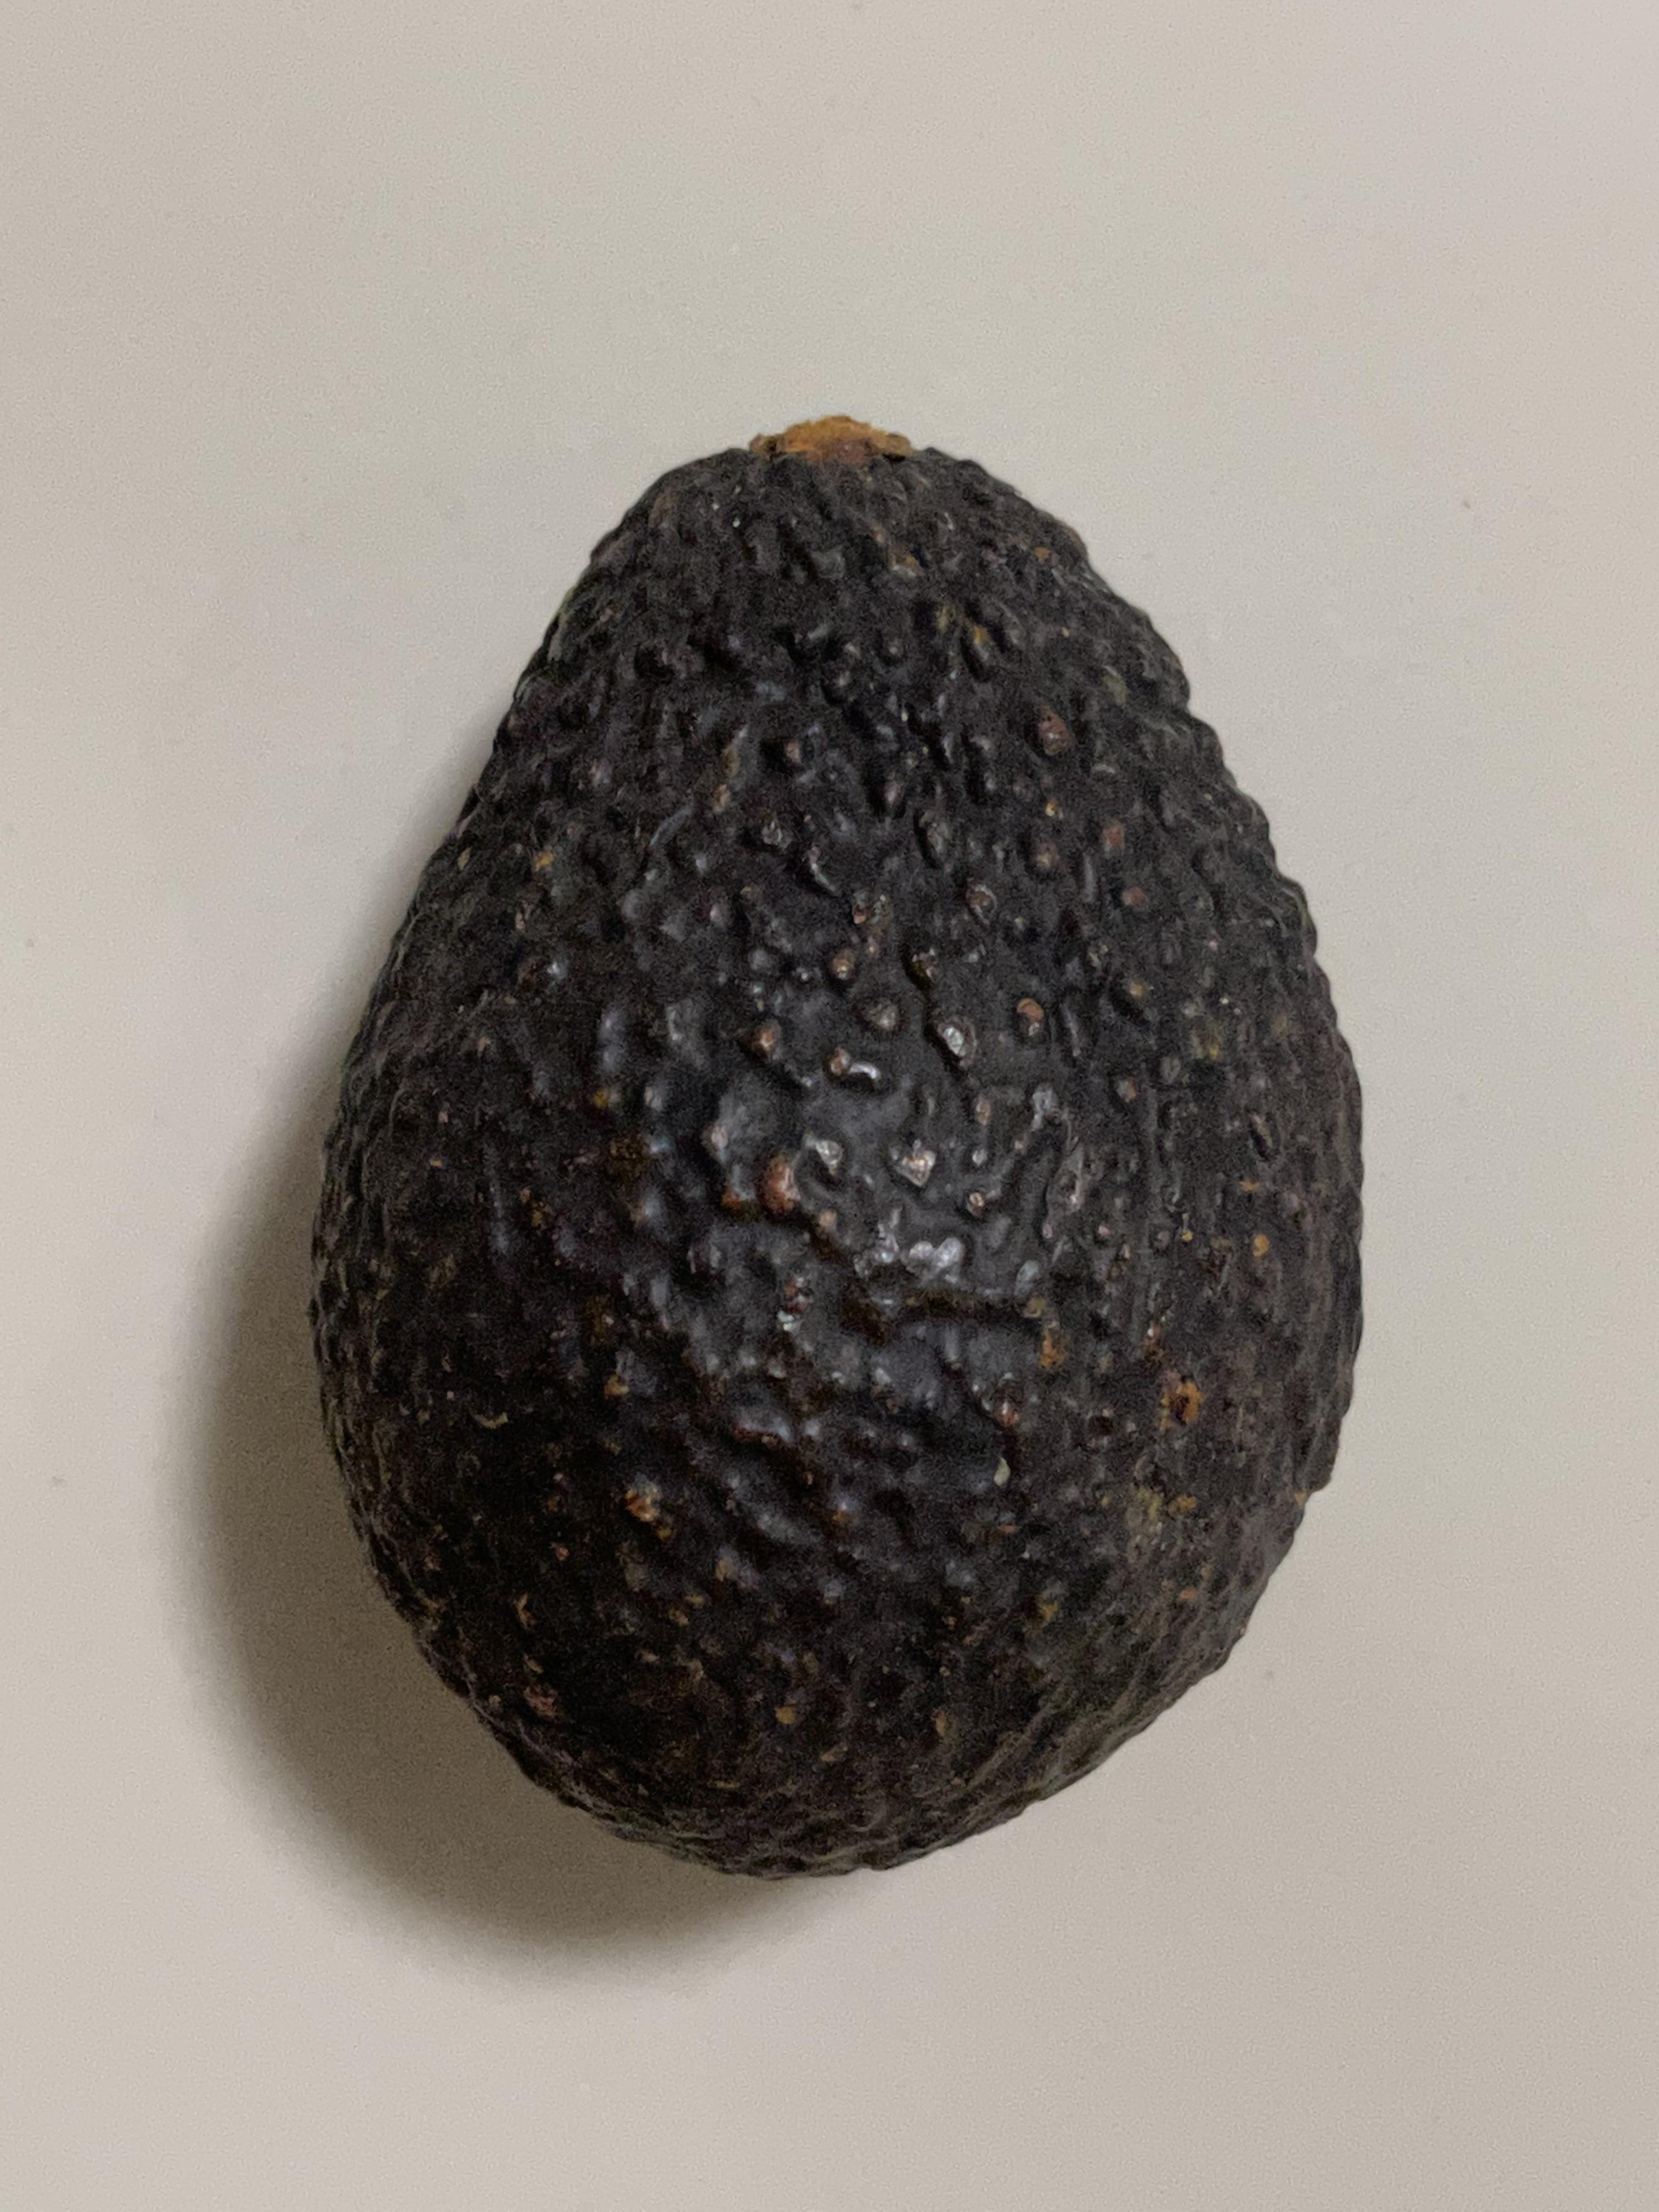Level2: (286, 378, 1387, 1909)
